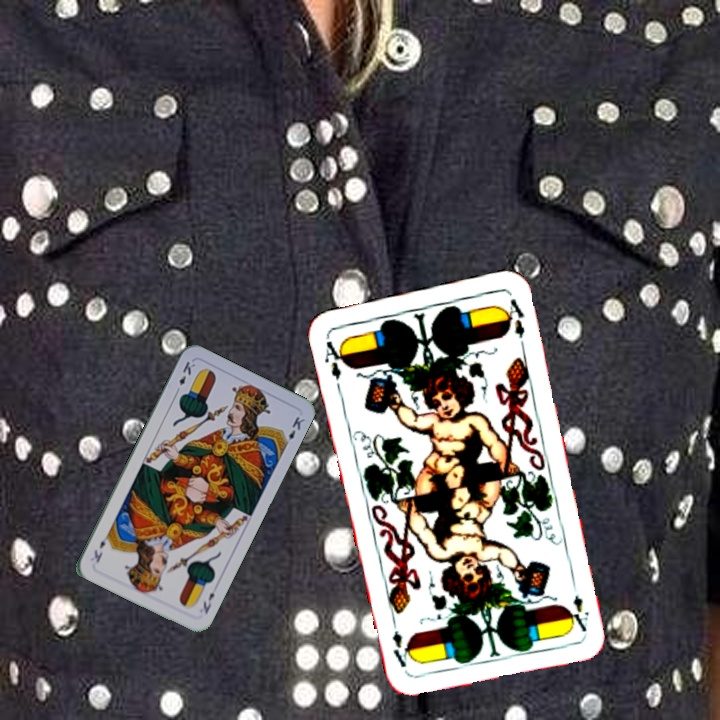EA: (320, 334, 350, 382), (568, 591, 592, 635)
EK: (171, 357, 198, 396), (199, 582, 221, 617)
